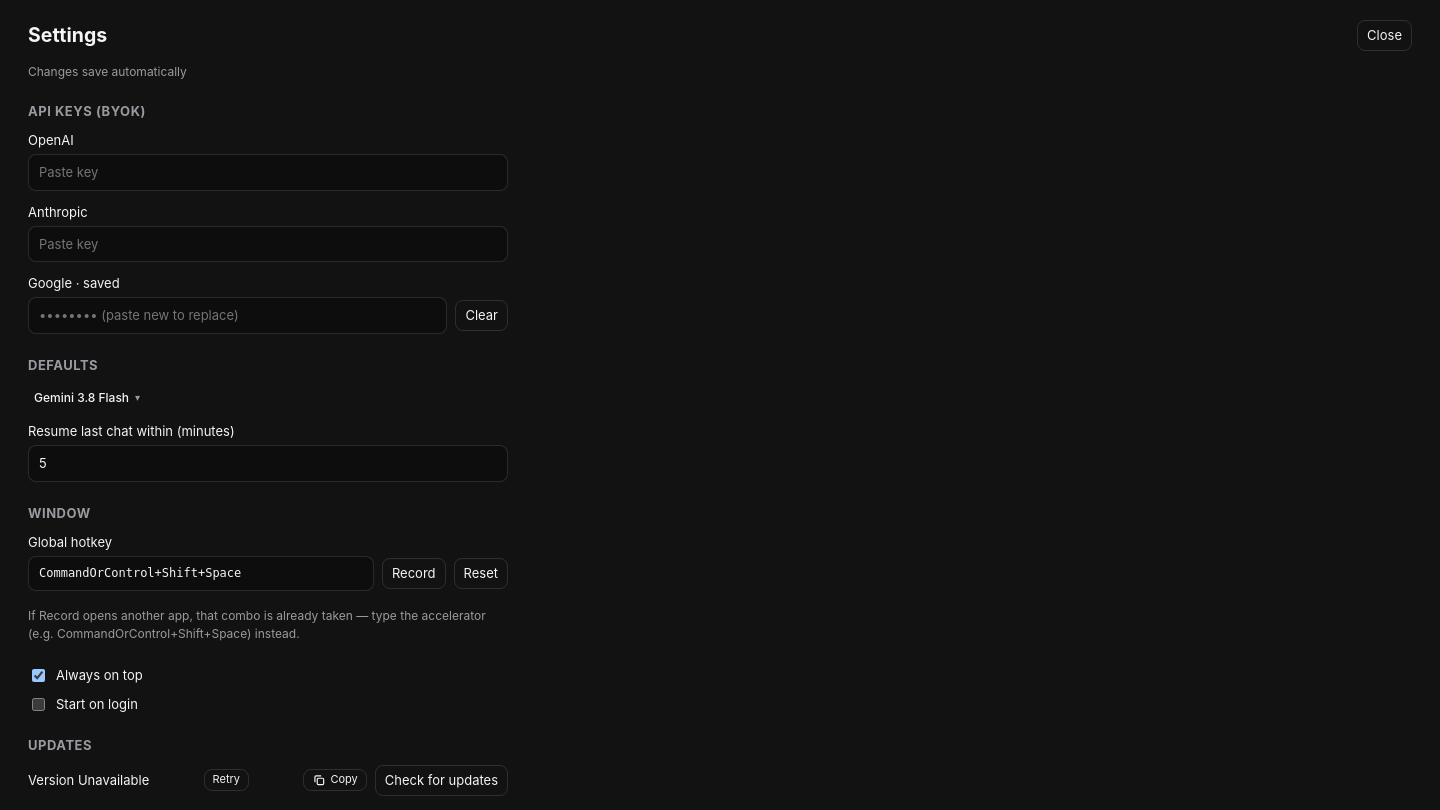
Test case: Settings › keeps an unavailable version disabled and retries loading
This screenshot has width=1440, height=810.
Expected: the text "Version Unavailable" is shown, [28, 771, 149, 790]
Expected: the button with aria-label "Copy version" is disabled, [303, 769, 367, 791]
Click the button "Retry".
click(226, 780)  # box [204, 769, 249, 791]
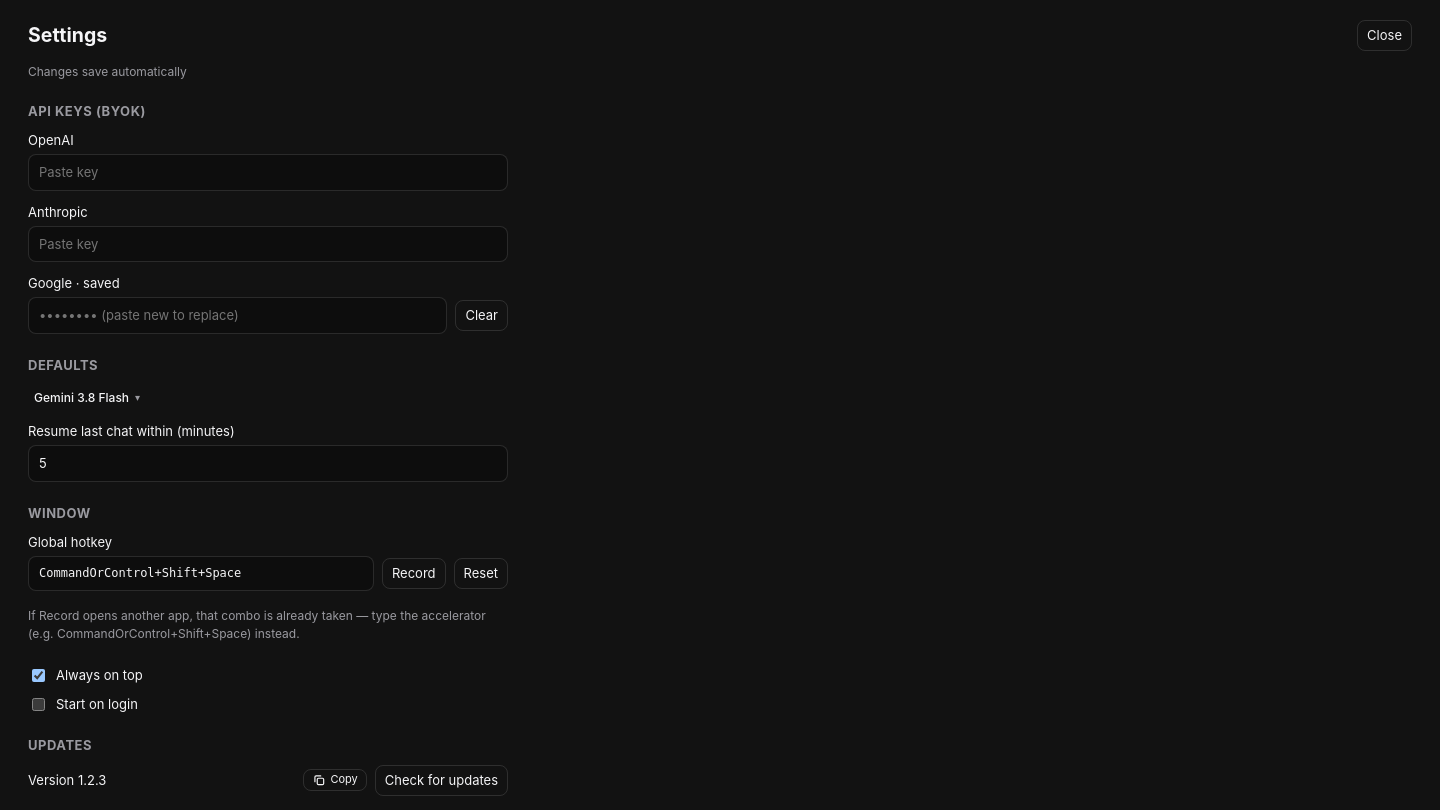
Expected: the button with aria-label "Copy version" is enabled, [303, 769, 367, 791]
Now the text "Version 1.2.3" is shown, box [28, 771, 106, 790]
